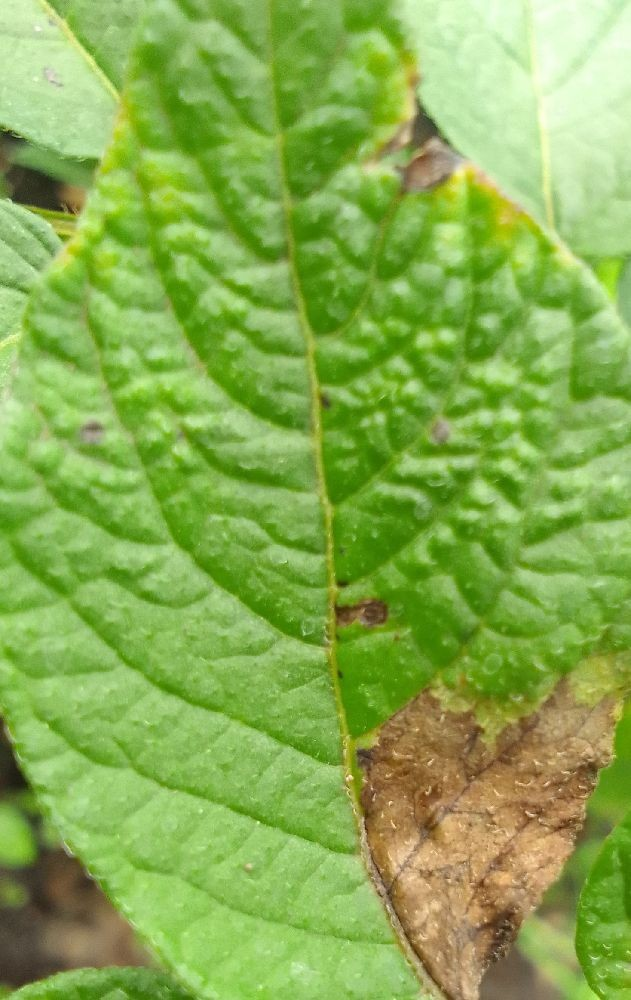late_blight: (343, 666, 630, 999), (0, 789, 169, 1000), (366, 58, 469, 210), (0, 122, 95, 225)
